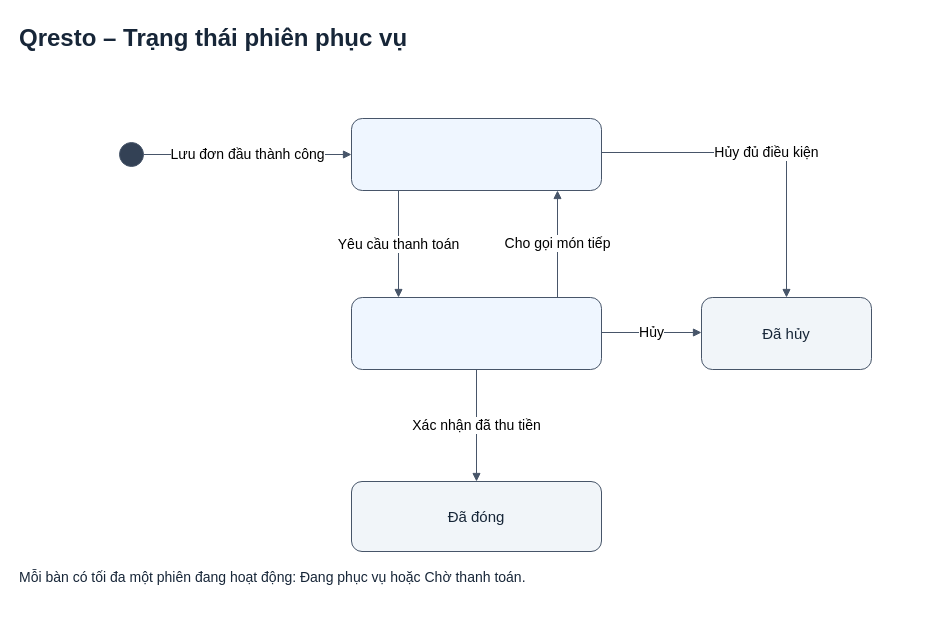
The diagram is 932 pixels wide and 619 high, and some of its shapes have lost their labels. The centre of each missing label's shape, as x and y in pixels:
"Chờ thanh toán" belongs at (x=476, y=333).
"Đang phục vụ" belongs at (x=476, y=154).
